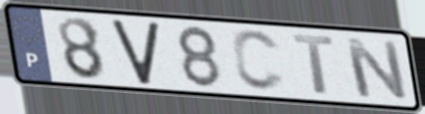8: (55, 15, 107, 82), (173, 23, 225, 90)
C: (229, 28, 289, 94)
N: (341, 35, 412, 102)
T: (290, 33, 337, 97)
V: (108, 19, 162, 87)
